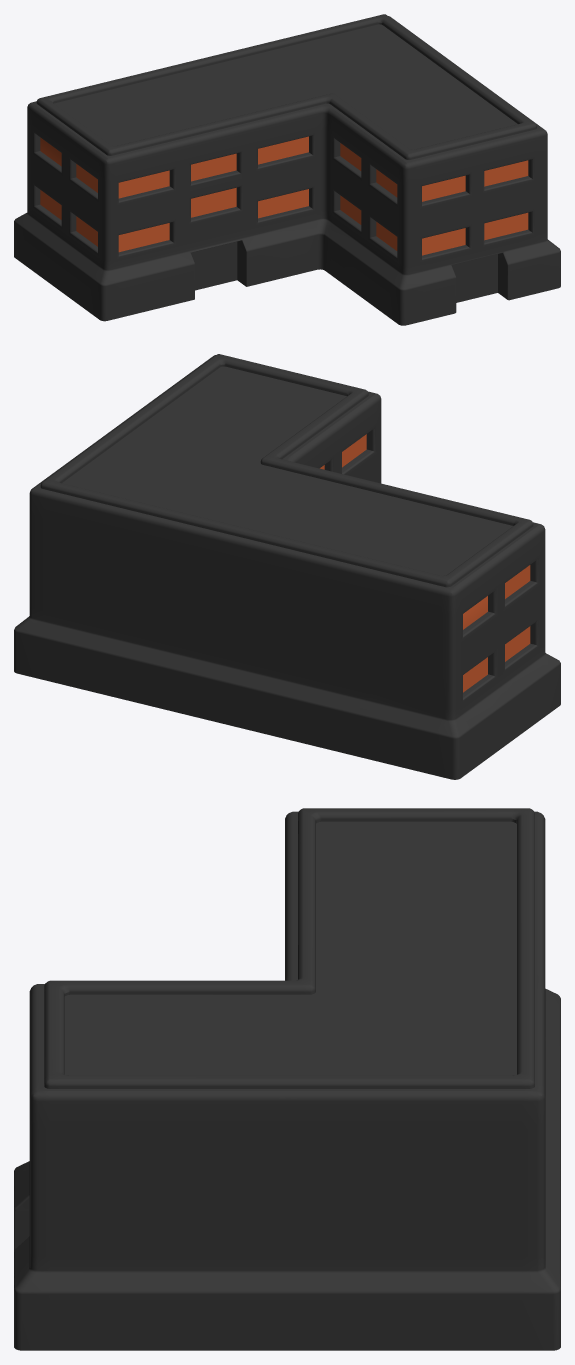
Rendered from SM_Building_04.fbx.
3 renders of one model, top to bottom at view 1: azimuth 30°, elevation 25°; view 2: azimuth 150°, elevation 25°; view 3: azimuth 270°, elevation 25°, orthographic. The views are drawn at different scales.
Visible parts, largest first — view 1: SM_Building_04_LOD0; view 2: SM_Building_04_LOD0; view 3: SM_Building_04_LOD0.
Part boxes in pixels (<box>): SM_Building_04_LOD0: <box>14,14,560,325</box>; SM_Building_04_LOD0: <box>14,354,560,779</box>; SM_Building_04_LOD0: <box>14,808,560,1350</box>.
Size of the model in its own units: 1883 by 1455 by 756.
